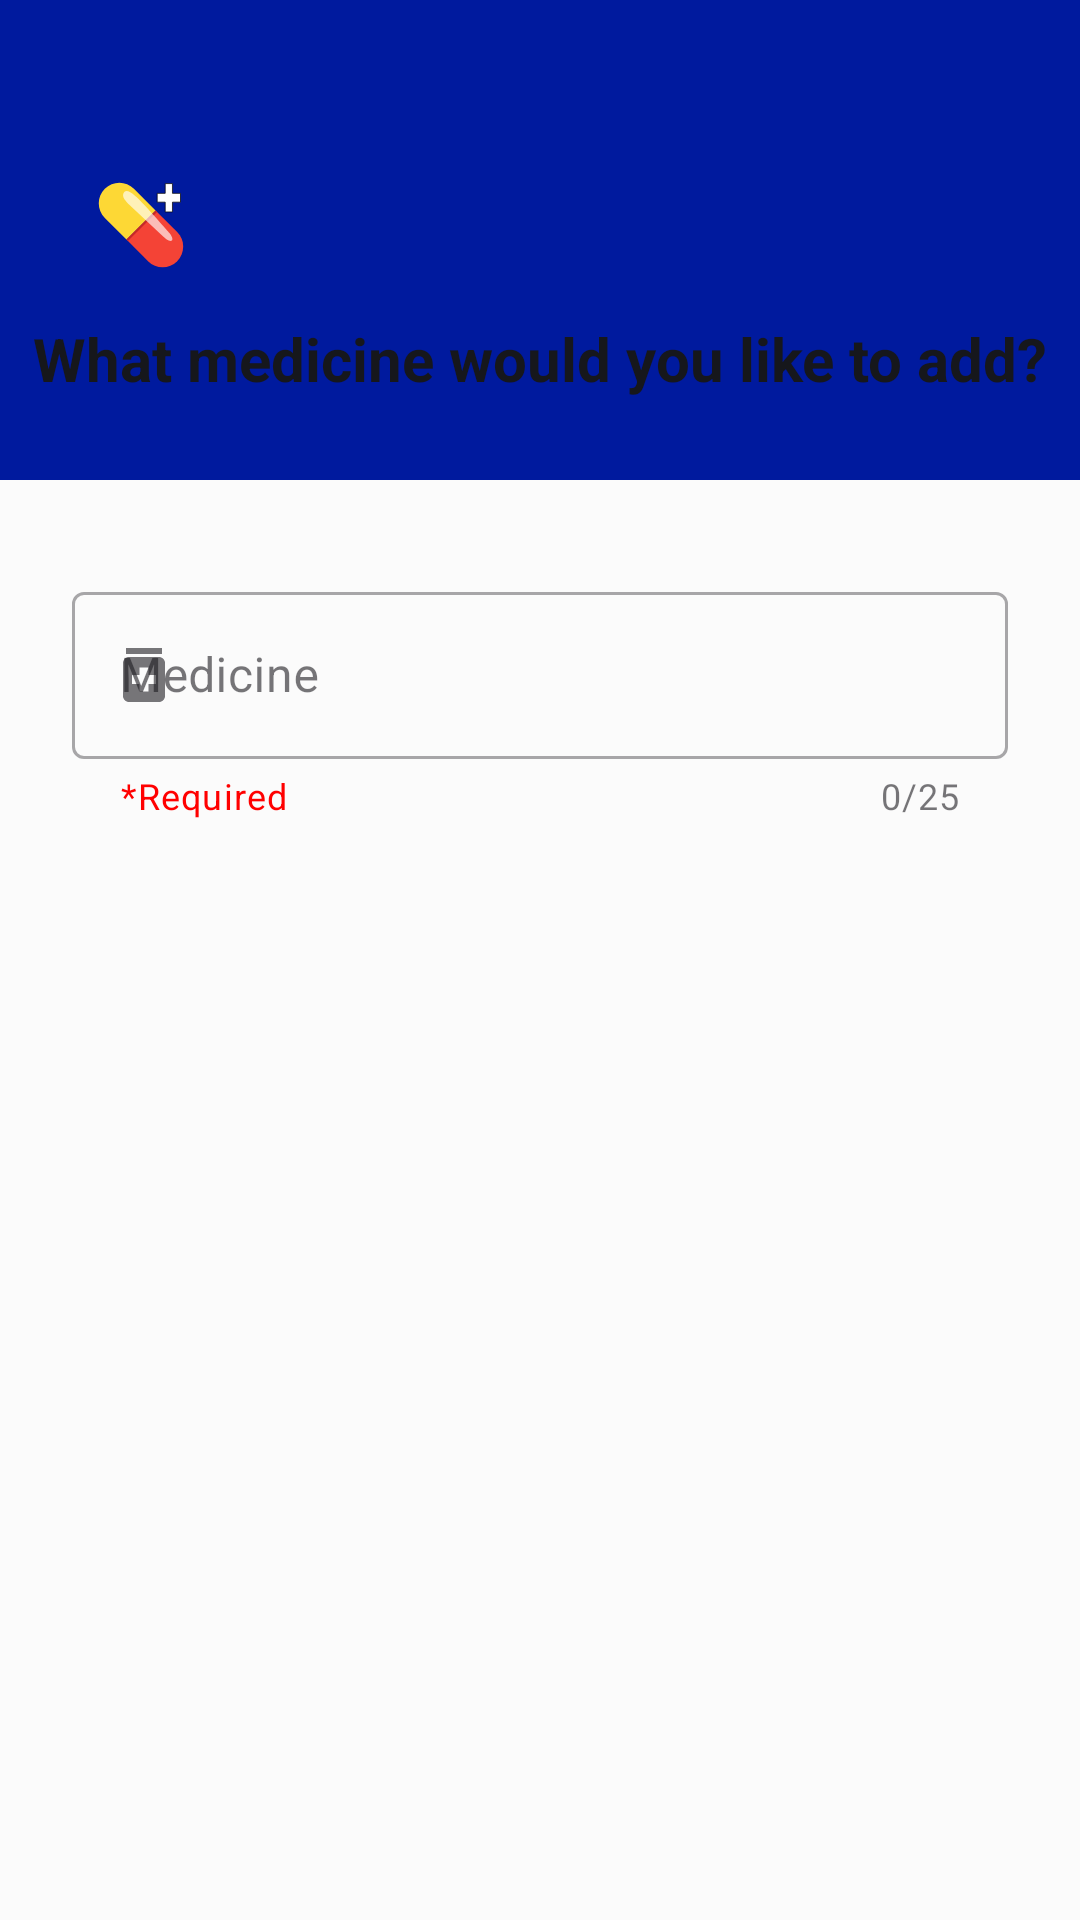

Icons on this 1080×1920 Android screen, each with its box as (x1, y1, x2, y2):
pill add: (98, 182, 184, 268)
